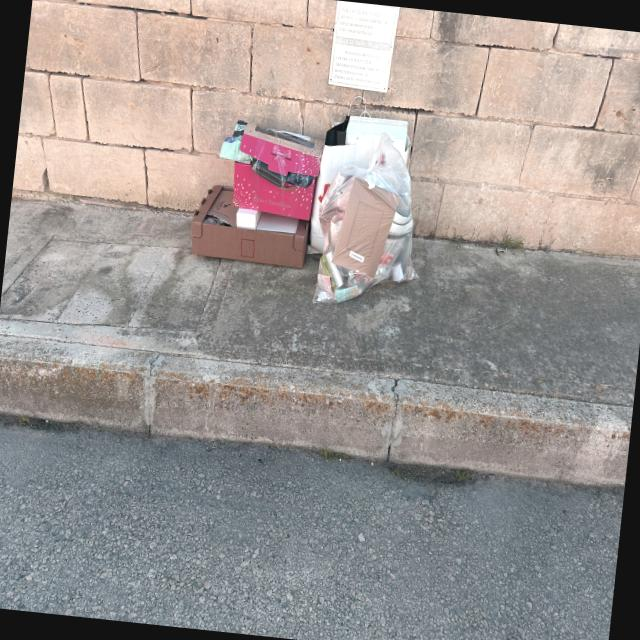grey_bag: (306, 125, 433, 316)
other_waste: (181, 110, 323, 294)
